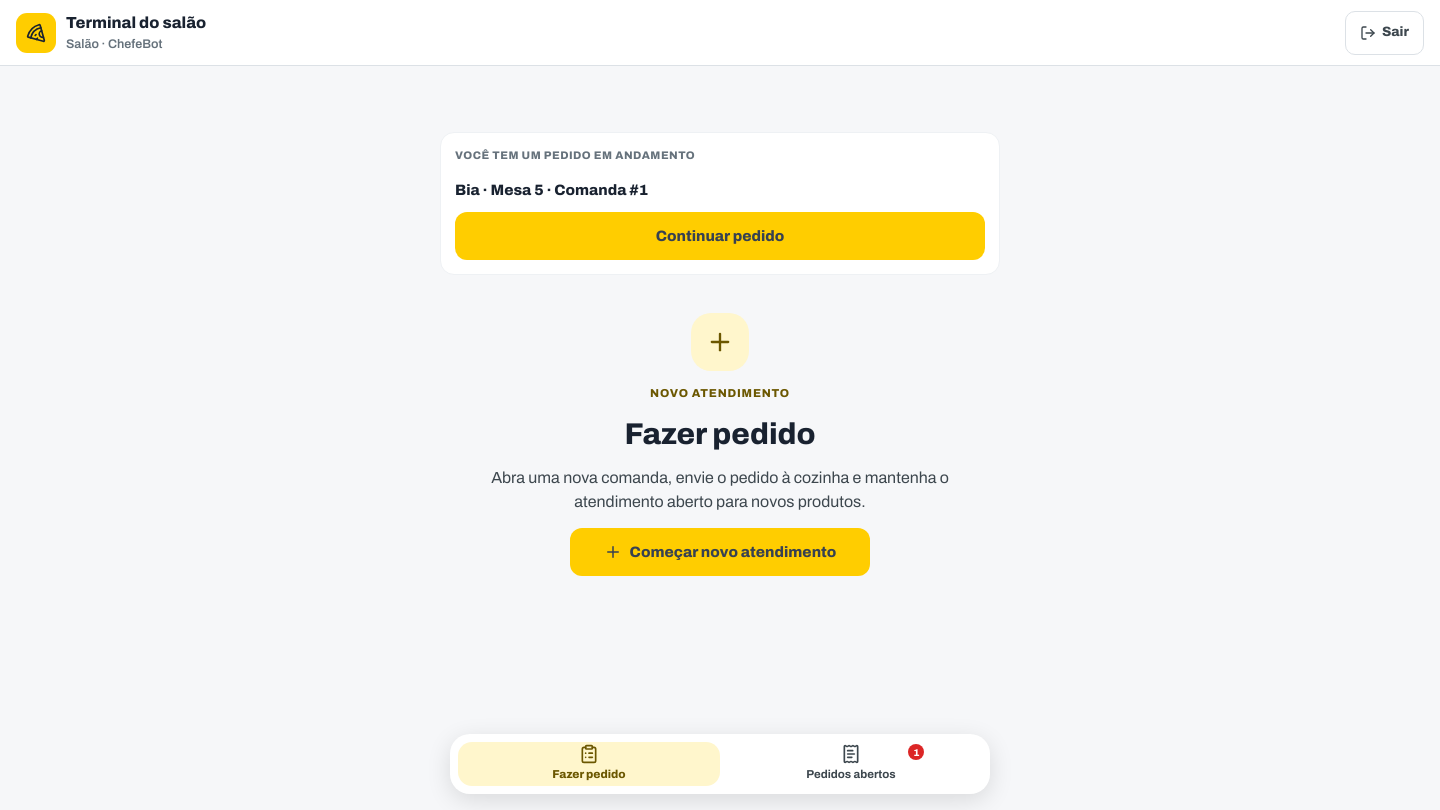
Test case: /salao — pedido primeiro, nome no final › mesa ocupada preserva as três saídas
Click the button "Começar novo atendimento". click: (720,552)
box: [570,528,870,576]
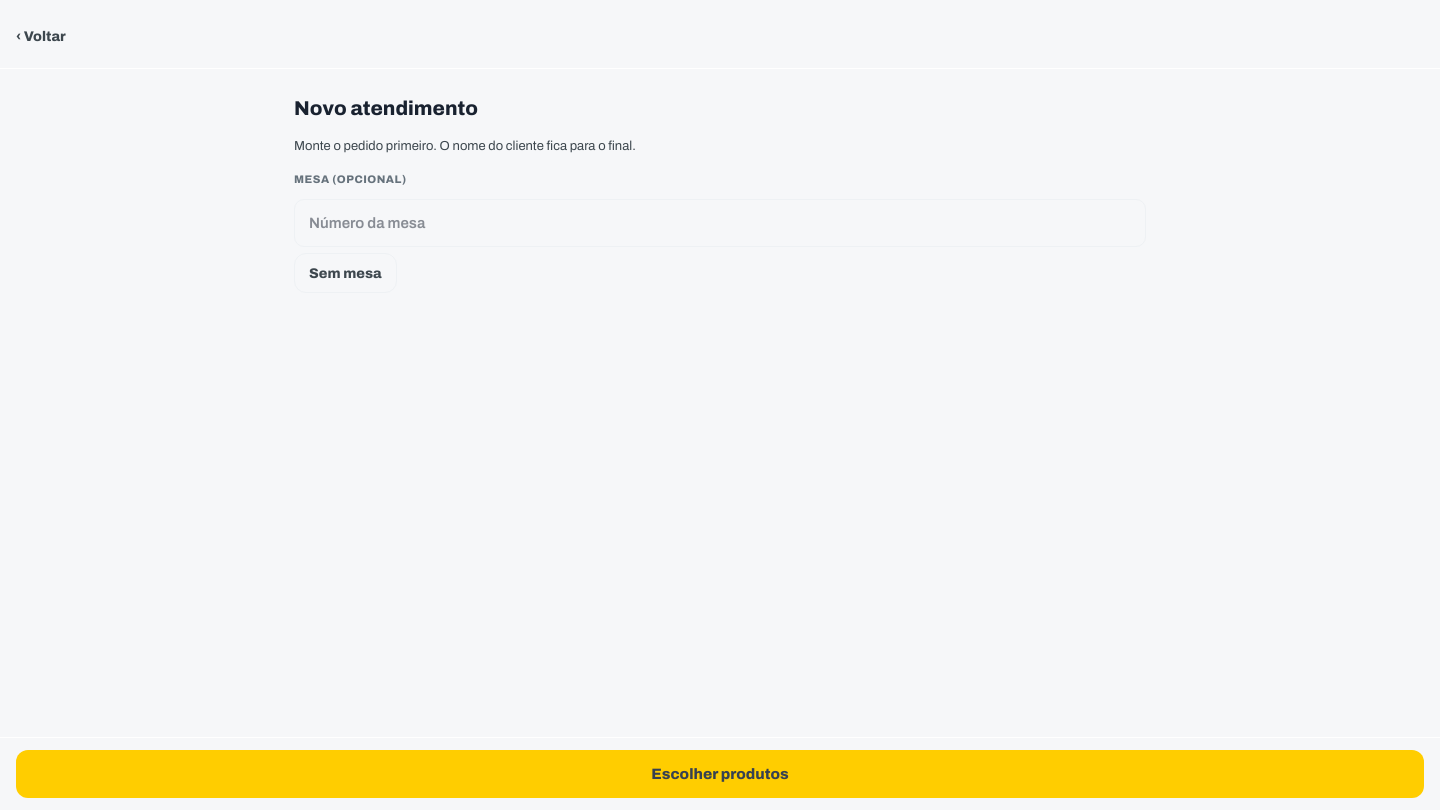
Type "5" into the field with placeholder "Número da mesa". click: (720,223)
box: [294,199,1146,247]
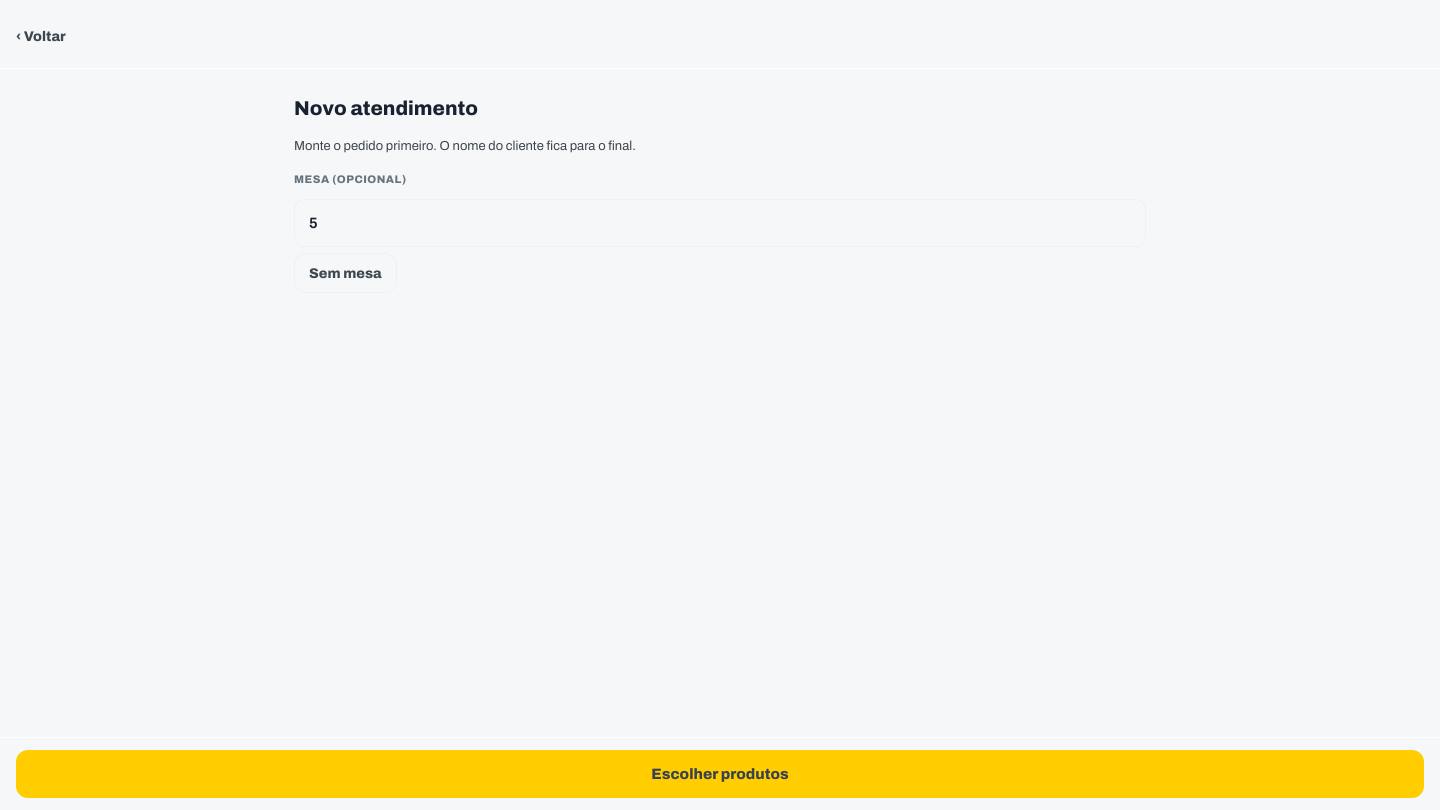
Click the button "Escolher produtos". click: (720,774)
box: [16,750,1424,798]
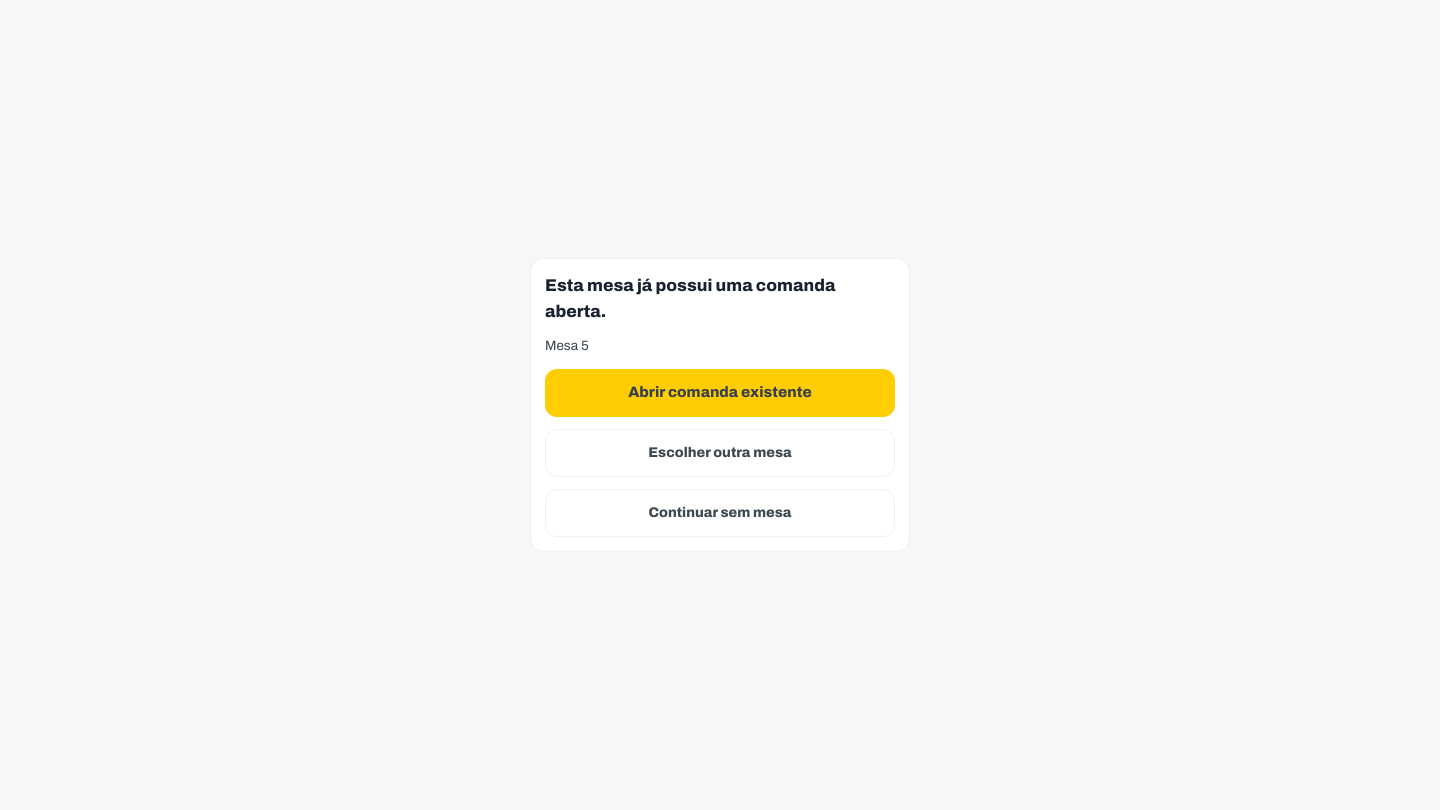
Check: the text "Esta mesa já possui uma comanda aberta." is shown, box [545,276,835,321]
Check: the button "Abrir comanda existente" is shown, box [545,369,895,417]
Check: the button "Escolher outra mesa" is shown, box [545,429,895,477]
